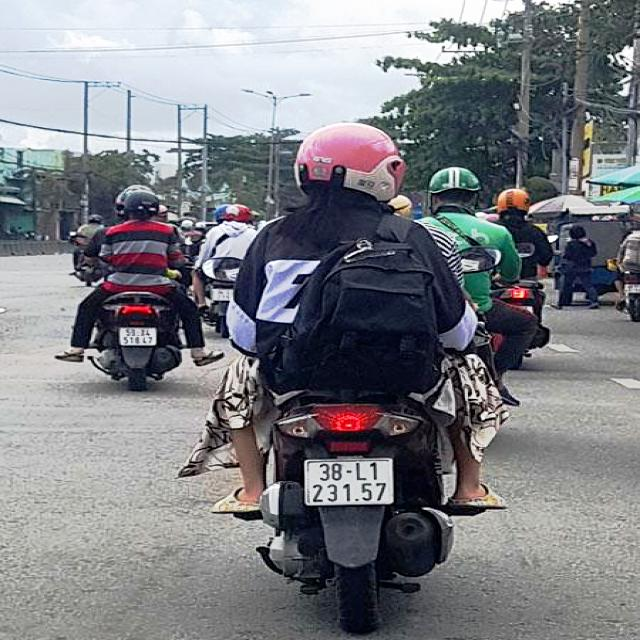license_plate: (306, 458, 394, 506)
